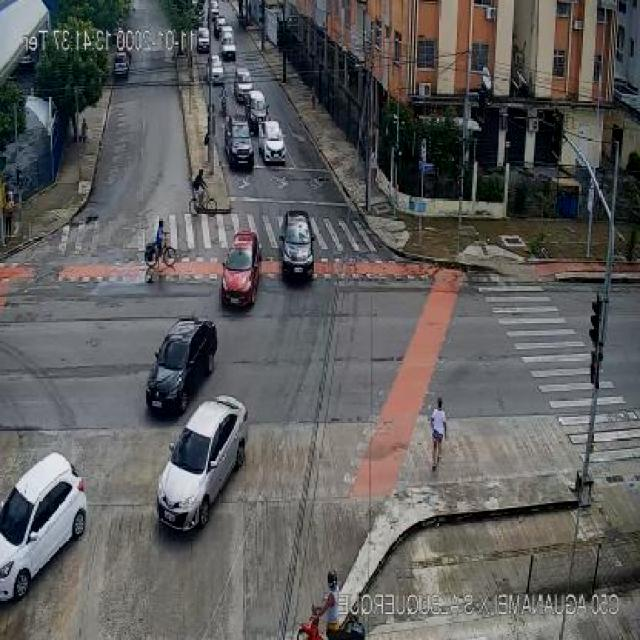Car: (0, 454, 86, 604), (157, 397, 247, 529), (145, 317, 218, 417), (220, 231, 264, 307), (278, 211, 315, 281), (226, 112, 255, 170), (259, 122, 286, 164), (246, 90, 268, 132), (234, 72, 253, 105), (207, 54, 225, 84), (113, 52, 130, 78), (18, 48, 35, 70), (220, 38, 236, 61), (197, 27, 210, 53), (219, 25, 234, 47), (208, 0, 220, 21), (215, 16, 227, 37)
Cycle: (295, 607, 365, 640), (144, 232, 177, 268), (188, 186, 218, 217), (220, 94, 229, 116)
